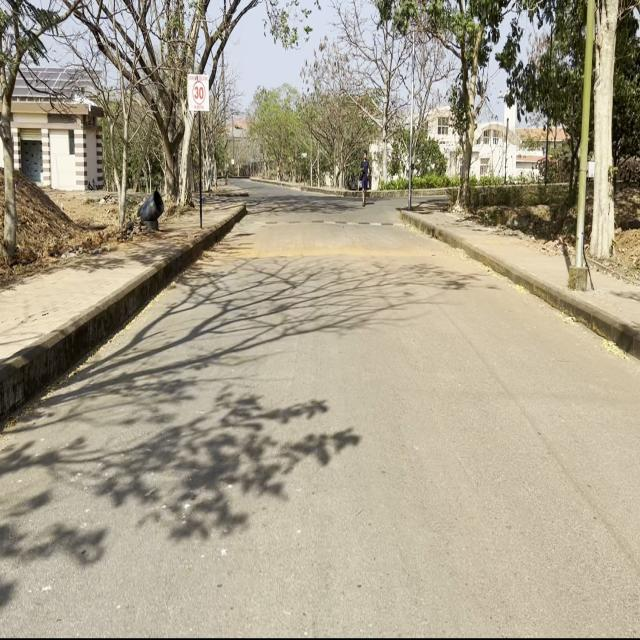Road: (3, 186, 637, 633)
